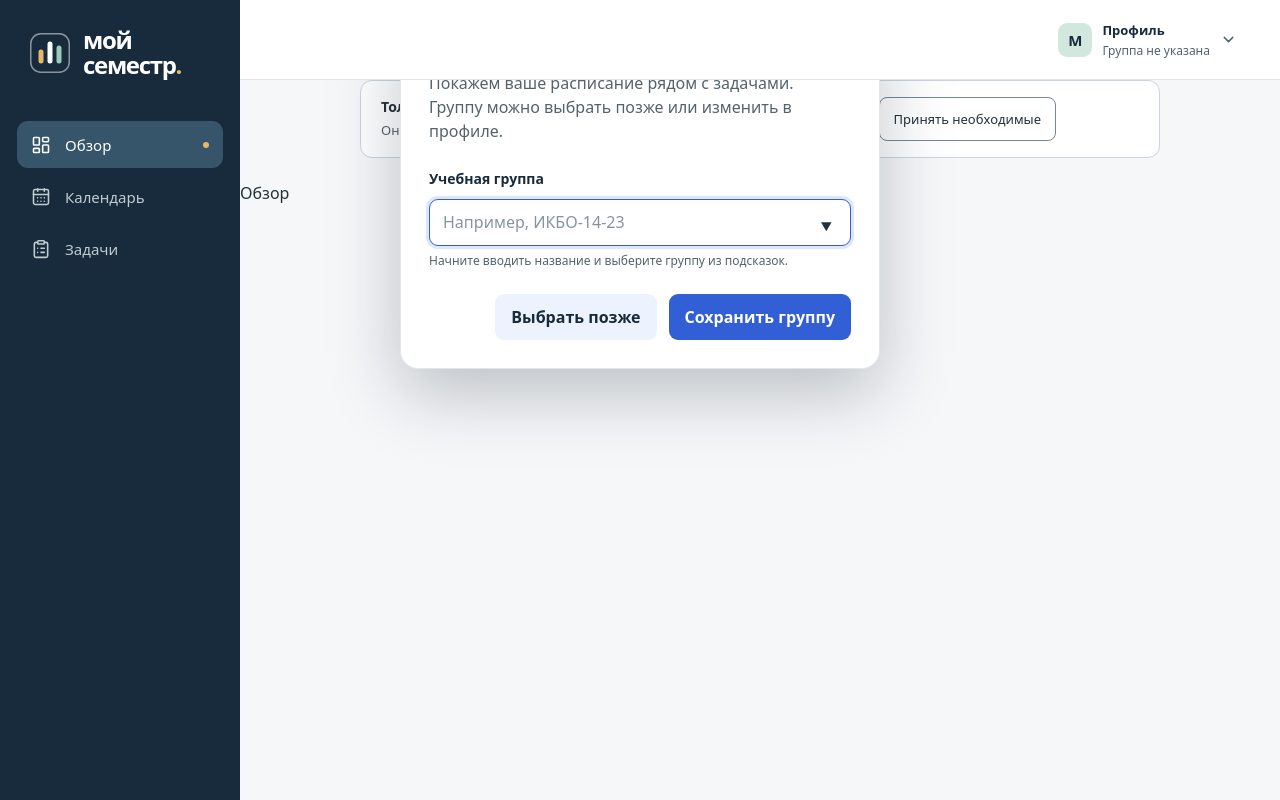
Test case: group choice after login › clears the login prompt on postponement and does not reopen it on navigation
This screenshot has width=1280, height=800.
Click the button with class "group-choice-later": (576, 317) [495,294,657,340]
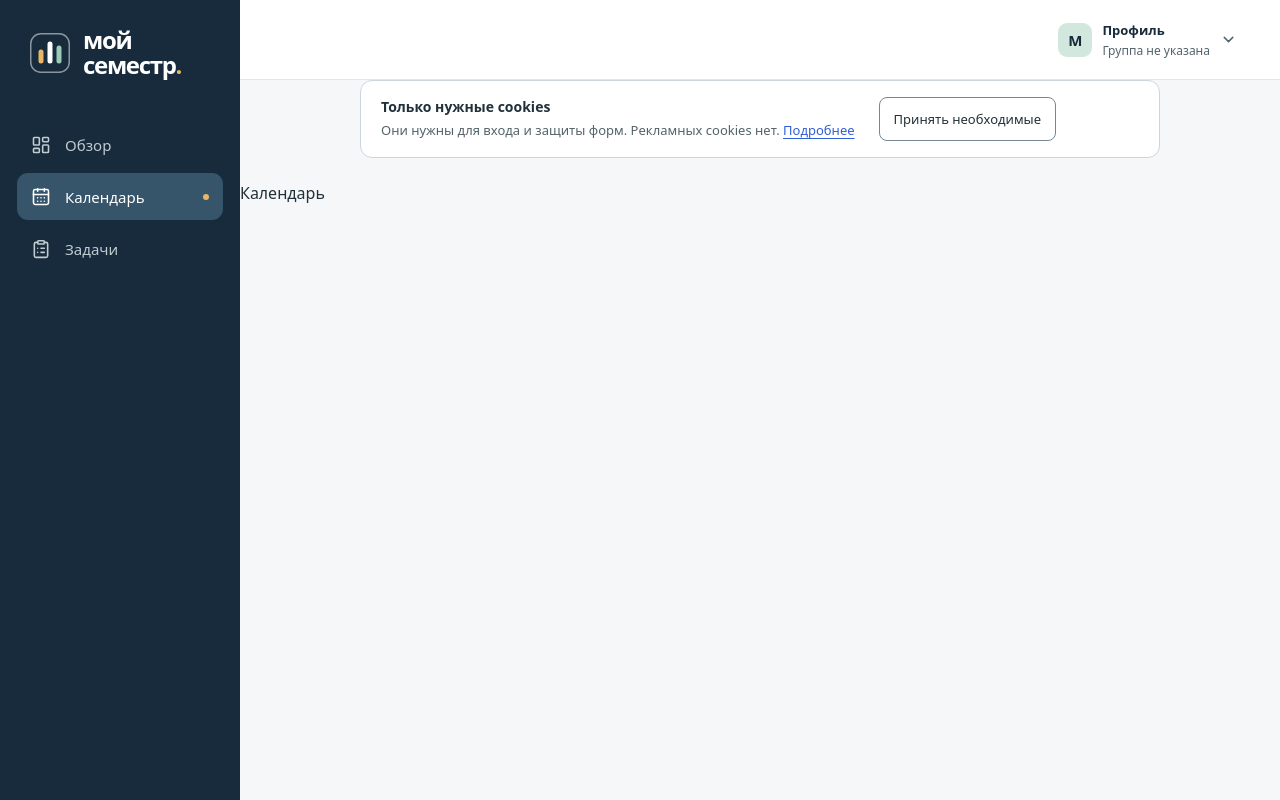
Check: the dialog is gone
